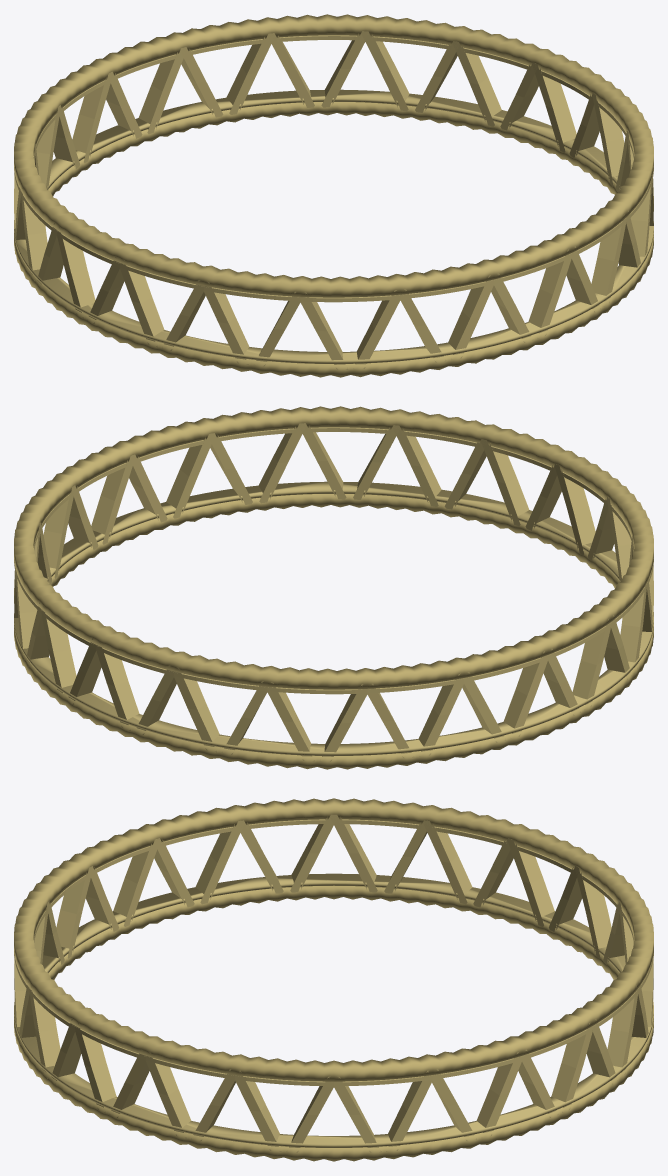
The model's file is entry2.glb.
3 views of the same model, one above another, from view 1: azimuth 30°, elevation 25°; view 2: azimuth 150°, elevation 25°; view 3: azimuth 270°, elevation 25° (orthographic).
Parts seen in each view (by area): view 1: Ring8_TribalGeometric; view 2: Ring8_TribalGeometric; view 3: Ring8_TribalGeometric.
Part boxes in pixels (<box>): Ring8_TribalGeometric: <box>14,14,653,377</box>; Ring8_TribalGeometric: <box>14,406,653,769</box>; Ring8_TribalGeometric: <box>14,798,653,1161</box>.
Size of the model in its own units: 1.81 by 0.29 by 1.81.
